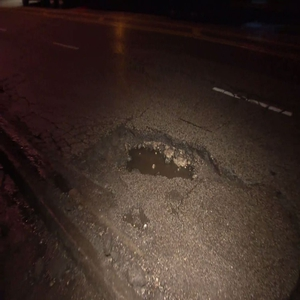pothole: (111, 125, 229, 193)
